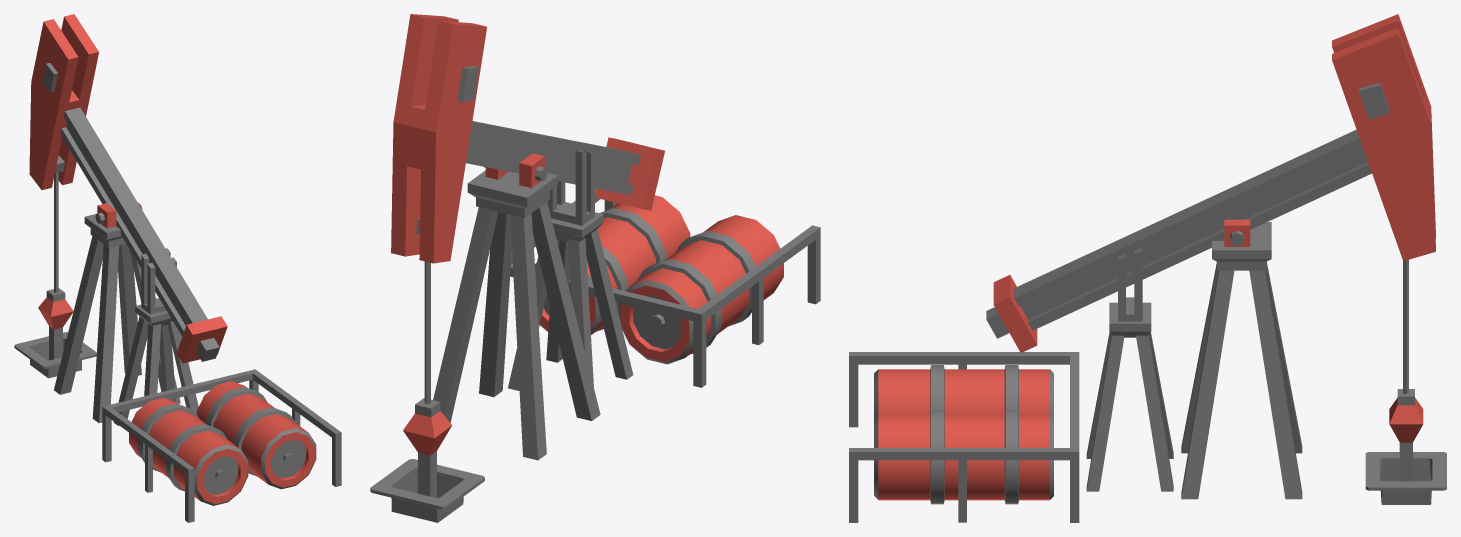
Rendered from OilPump.fbx.
3 renders of one model, left to right at view 1: azimuth 30°, elevation 25°; view 2: azimuth 150°, elevation 25°; view 3: azimuth 270°, elevation 25°, orthographic. The views are drawn at different scales.
Visible parts, largest first — view 1: OilPump; view 2: OilPump; view 3: OilPump.
Boxes of the visible parts, bbox=[...] form: OilPump: bbox=[14, 14, 341, 522]; OilPump: bbox=[370, 14, 820, 522]; OilPump: bbox=[849, 14, 1446, 522].
Bounding box in the file's own units: 118 × 258 × 298.
